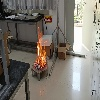fire: (35, 26, 47, 70)
